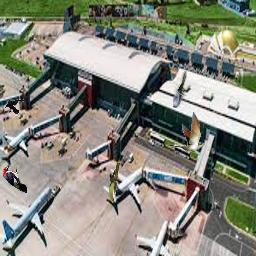Crow: (5, 99, 24, 114)
Cuckoo: (169, 112, 205, 152), (173, 71, 187, 108), (109, 163, 120, 203)
Woodpecker: (3, 164, 27, 193)
